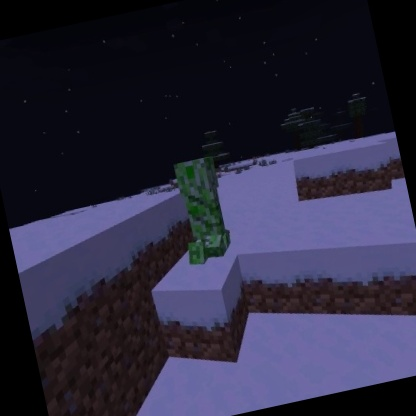creeper: (165, 151, 239, 270)
